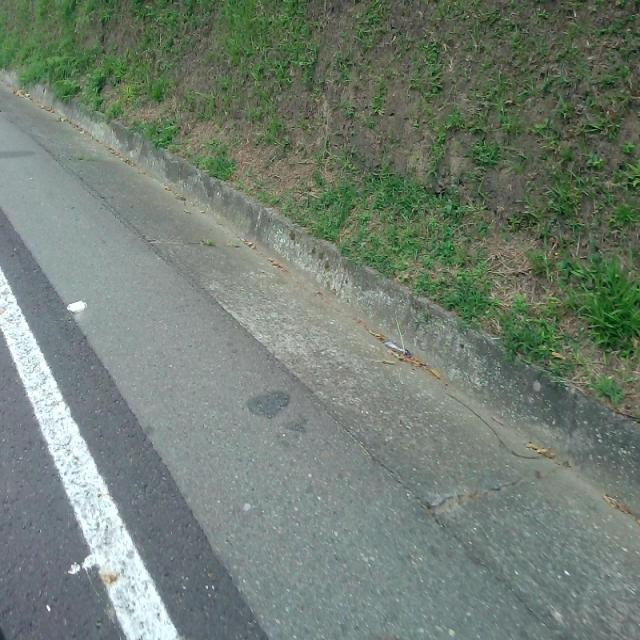DITCH: (1, 39, 638, 637), (1, 71, 638, 638)
